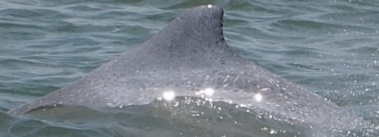fin: (23, 1, 360, 126)
